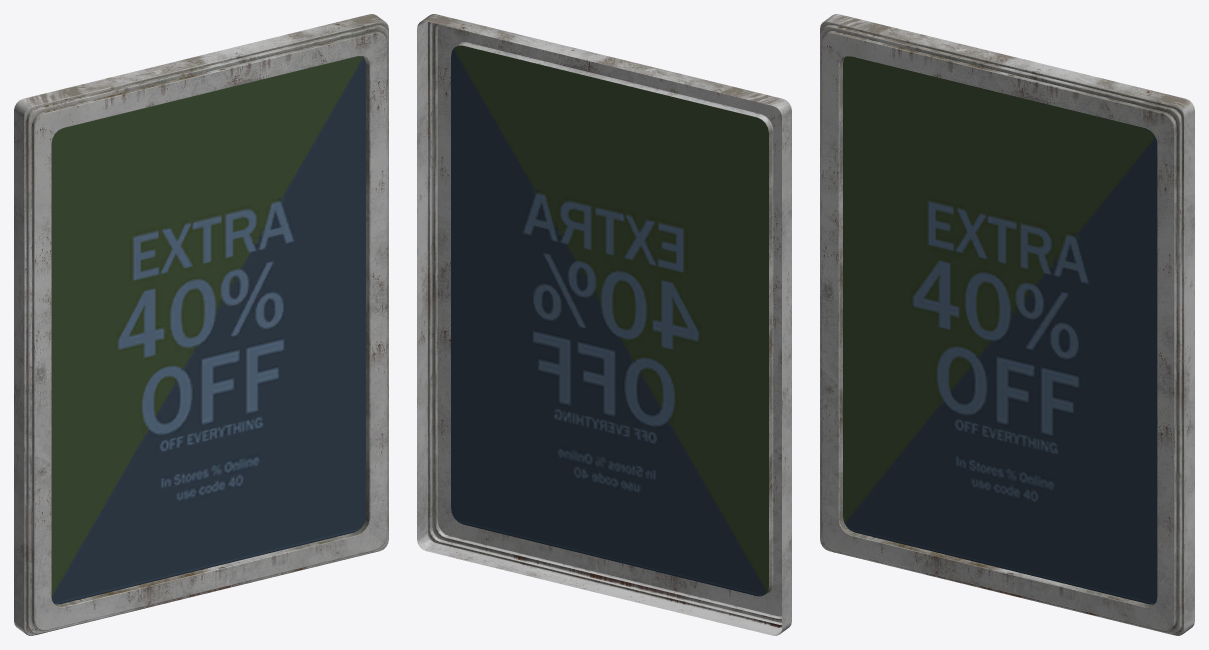
The model's file is SM_Billboard04.glb.
The picture shows the model from 3 angles, left to right: view 1: azimuth 30°, elevation 25°; view 2: azimuth 150°, elevation 25°; view 3: azimuth 330°, elevation 25°; orthographic projection.
Parts seen in each view (by area): view 1: SM_Billboard04; view 2: SM_Billboard04; view 3: SM_Billboard04.
Part boxes in pixels (bbox=[...]): SM_Billboard04: bbox=[14, 14, 388, 635]; SM_Billboard04: bbox=[417, 14, 791, 635]; SM_Billboard04: bbox=[820, 14, 1194, 635].
Bounding box in the file's own units: 1.55 × 2.15 × 0.105.
2 materials, 2 textured.
